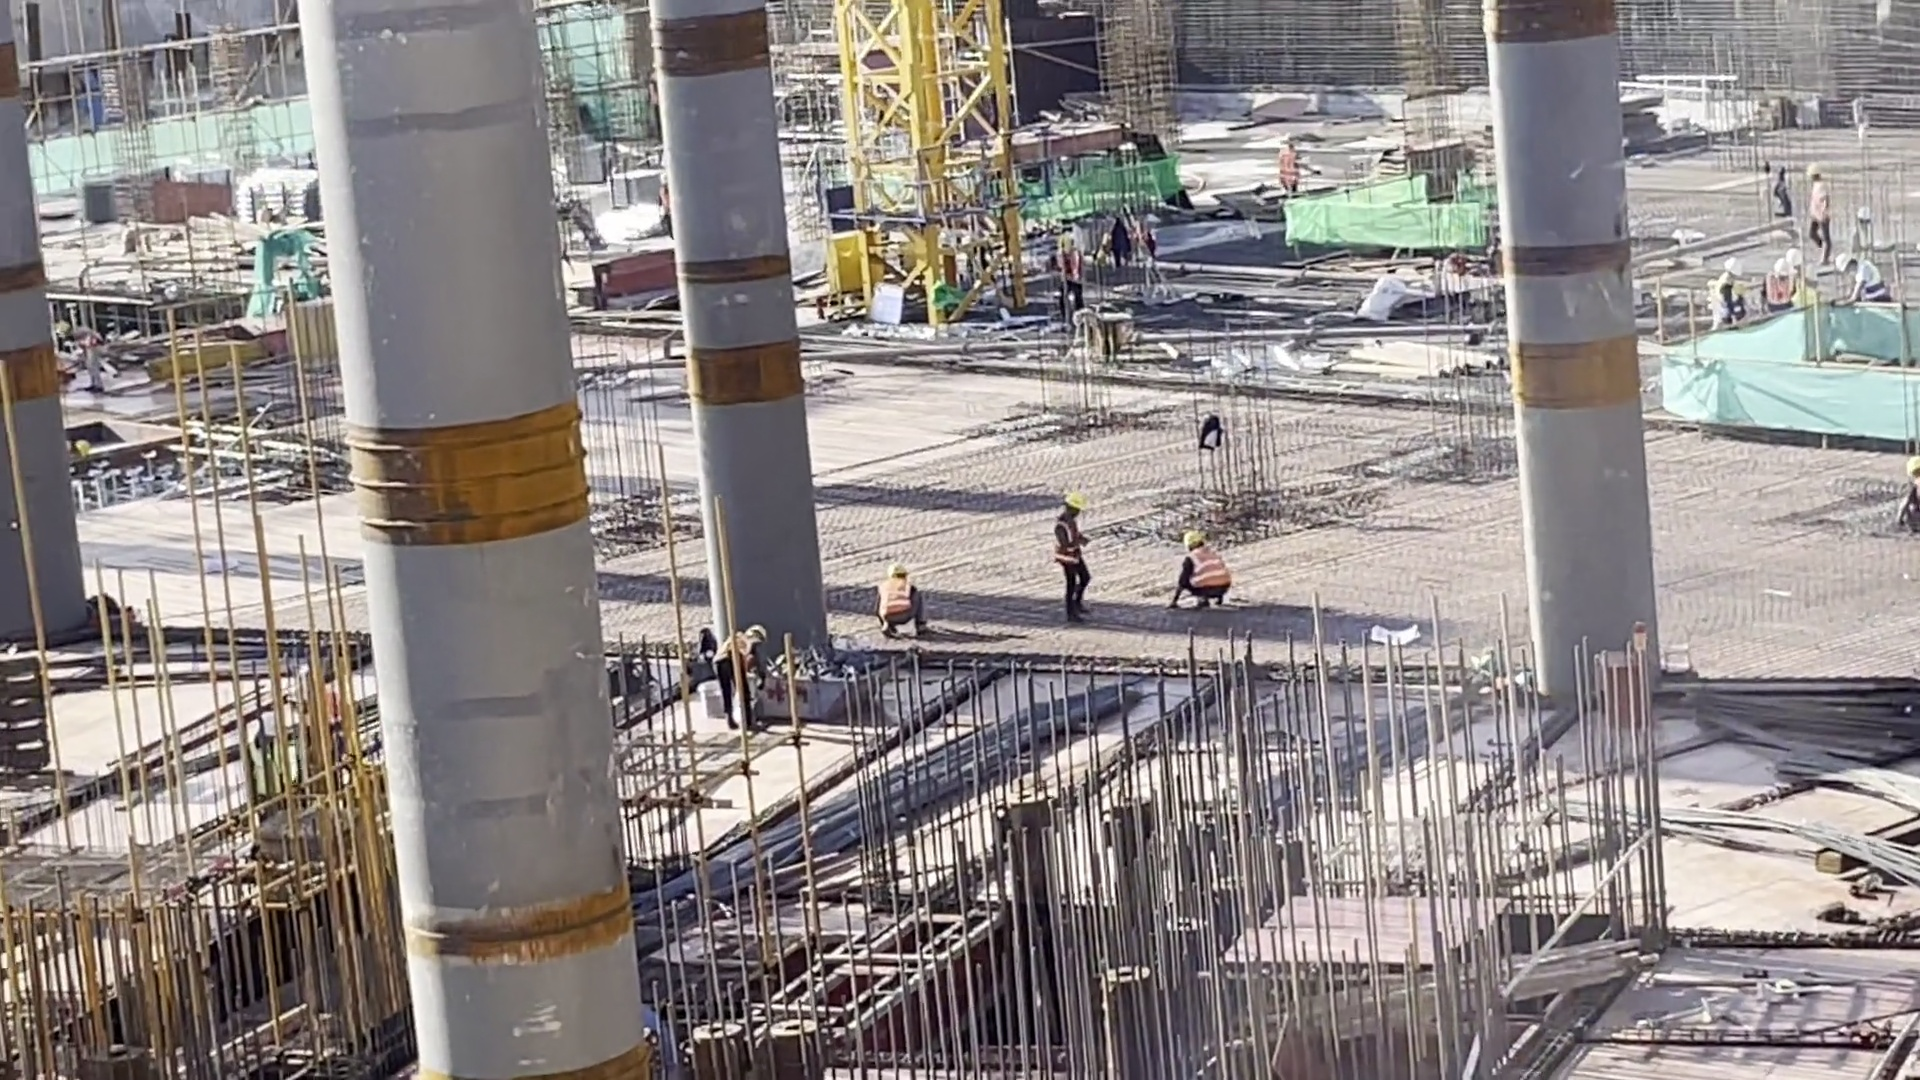helmet: (1832, 250, 1855, 279), (1175, 529, 1206, 550), (884, 559, 908, 579), (1065, 491, 1084, 513), (1807, 163, 1826, 183), (1725, 259, 1746, 276), (1856, 206, 1874, 224), (747, 623, 766, 639), (1777, 255, 1794, 276)
person: (684, 611, 781, 737), (1032, 486, 1108, 635), (1171, 524, 1241, 616), (874, 549, 926, 646), (1045, 228, 1095, 323), (1701, 256, 1748, 339), (1799, 153, 1833, 260), (1837, 257, 1891, 322), (1270, 126, 1315, 204), (1769, 243, 1803, 308), (1845, 204, 1878, 264)
vest: (713, 635, 758, 689), (1178, 553, 1230, 589), (1049, 522, 1088, 567), (877, 581, 912, 617), (1806, 183, 1836, 227), (1851, 266, 1884, 301)
